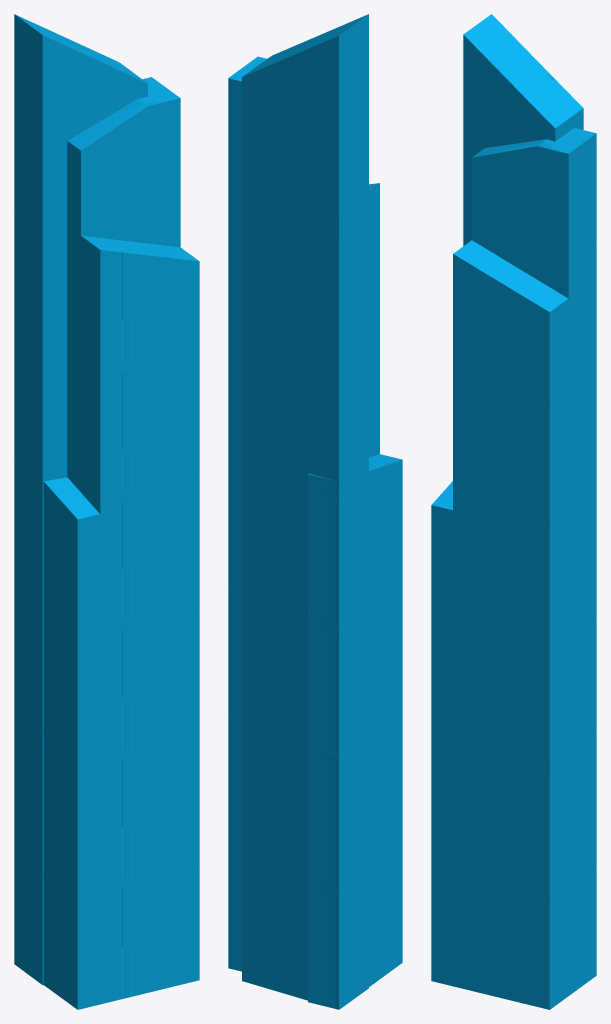
The model's file is ctf2.glb.
The picture shows the model from 3 angles, left to right: view 1: azimuth 30°, elevation 25°; view 2: azimuth 150°, elevation 25°; view 3: azimuth 330°, elevation 25°; orthographic projection. The views are drawn at different scales.
Parts seen in each view (by area): view 1: CTF; view 2: CTF; view 3: CTF.
Boxes of the visible parts, x1=… form: CTF: x1=14, y1=14, x2=199, y2=1009; CTF: x1=228, y1=14, x2=402, y2=1009; CTF: x1=431, y1=14, x2=596, y2=1009.
Bounding box in the file's own units: 71.75 × 529 × 63.48.
